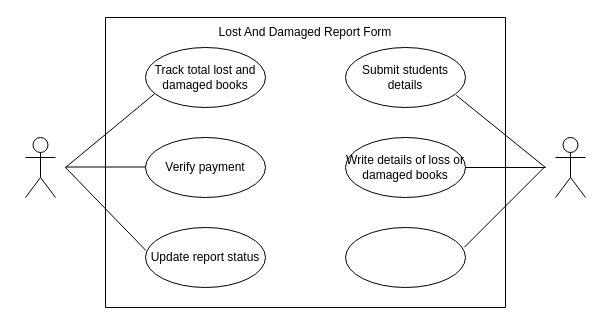
Image size: 608x325. Some labels were removed from this diagram. The shapes that lost their labels are listed below. From the top down, each one's centre as x and y in pixels, then its label:
At point (40, 167): "Librarian".
At point (570, 167): "Student".
At point (405, 257): "Submit payment".
